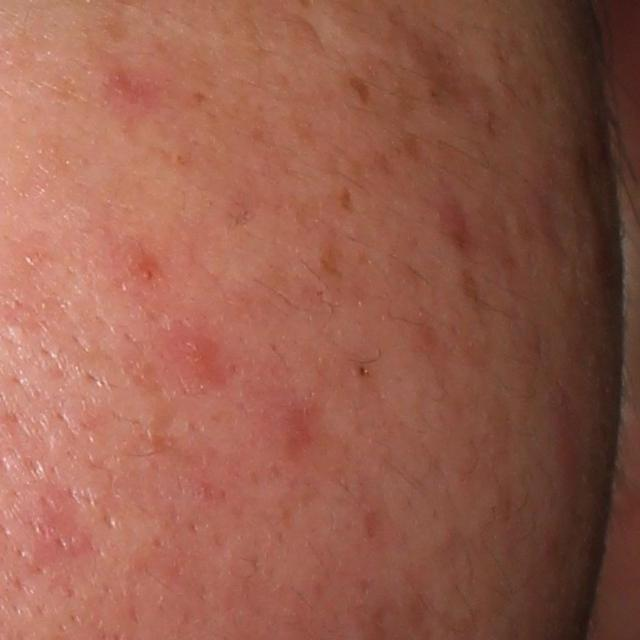comedo: (350, 360, 373, 382)
melasma: (346, 76, 374, 107)
papule: (175, 330, 214, 372)
